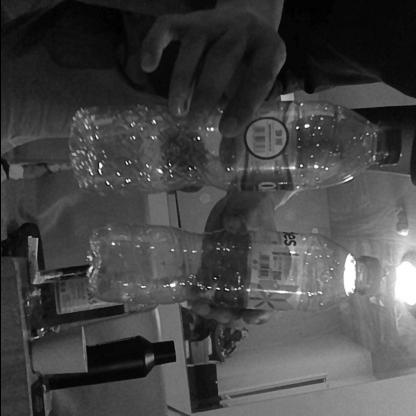plastic_bottles: (70, 99, 404, 198), (83, 221, 378, 308)
